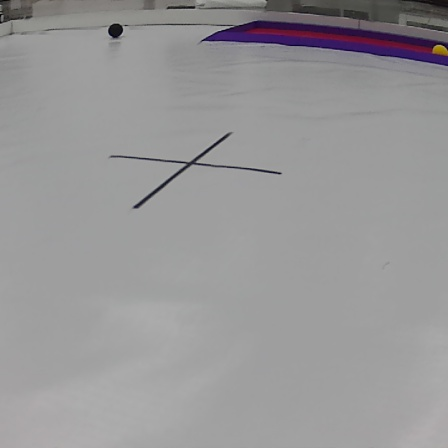black: (106, 22, 126, 39)
red_aim: (198, 17, 448, 67)
yellow: (428, 43, 448, 56)
